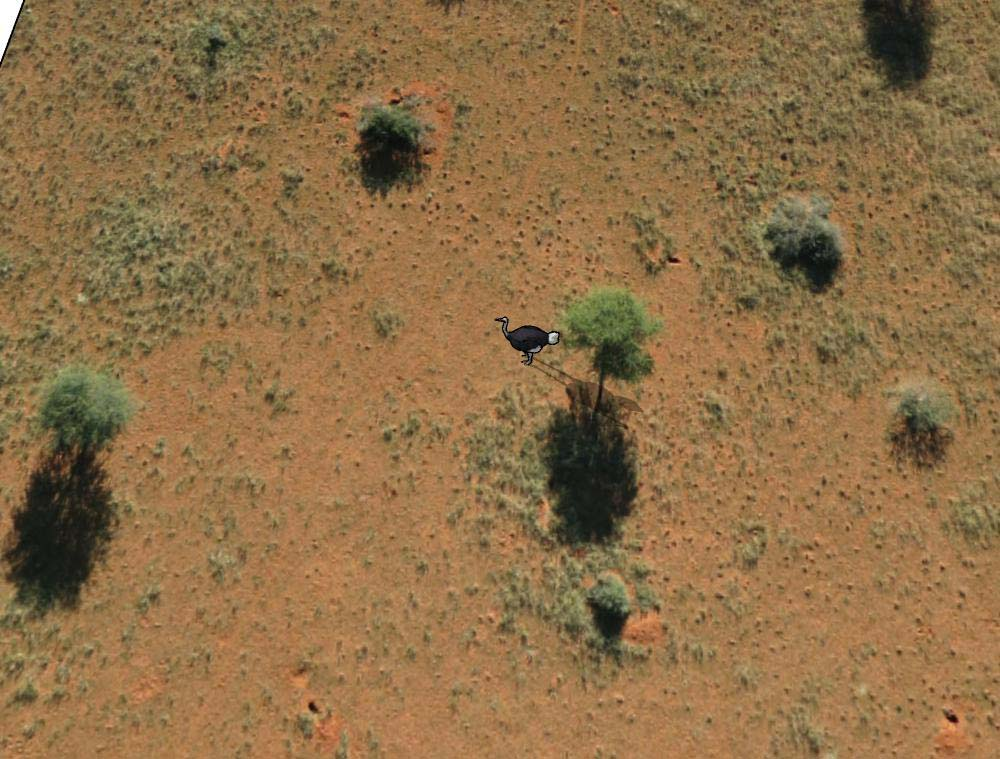ostrich: (492, 311, 560, 372)
